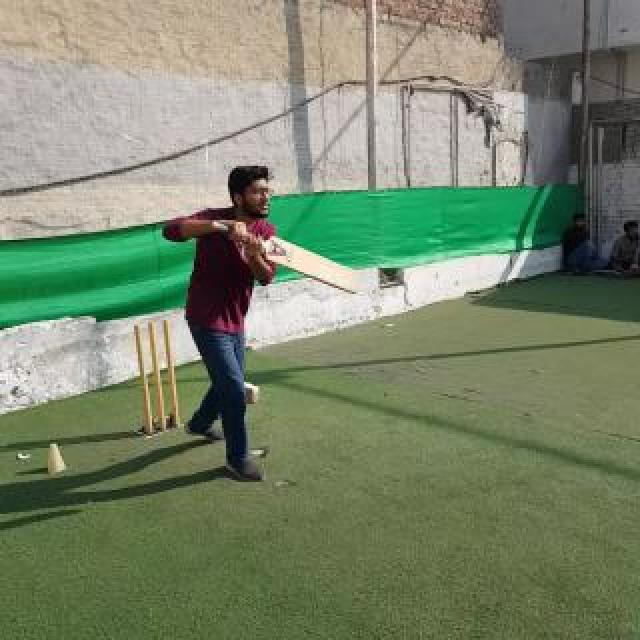bat: (208, 220, 360, 294)
